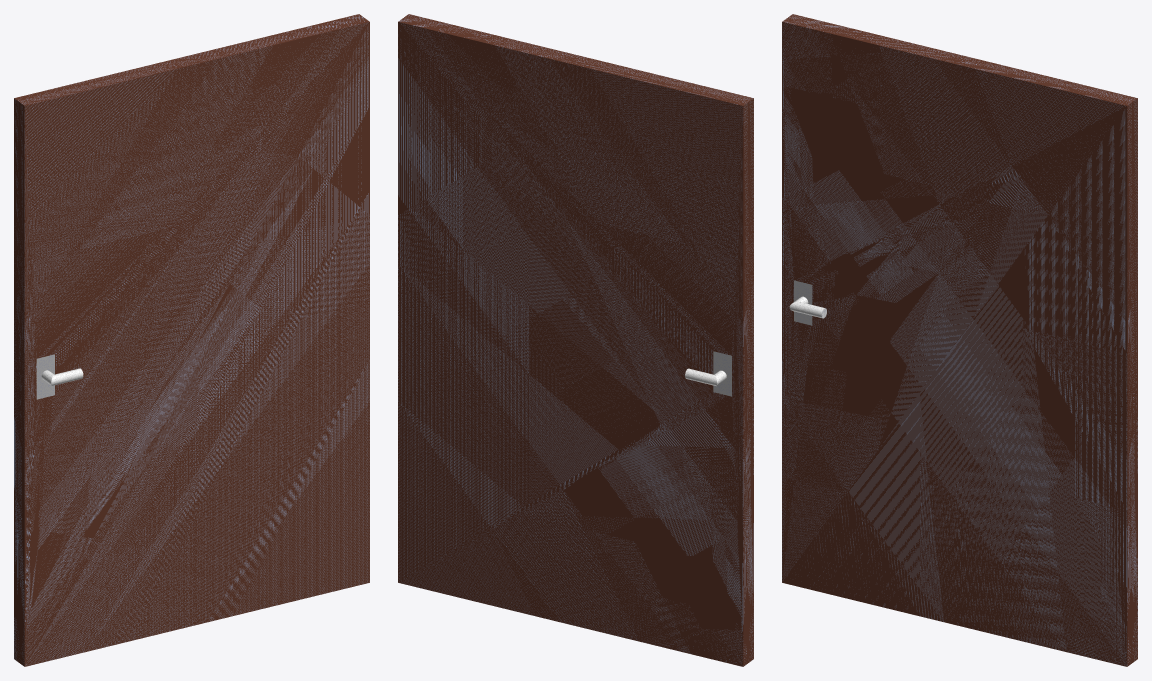
File: door.fbx
The picture shows the model from 3 angles, left to right: view 1: azimuth 30°, elevation 25°; view 2: azimuth 150°, elevation 25°; view 3: azimuth 330°, elevation 25°; orthographic projection.
Parts seen in each view (by area): view 1: Model, Basic_Doorhandle1; view 2: Model, Basic_Doorhandle2; view 3: Model, Basic_Doorhandle1.
Boxes of the visible parts, box(x1,y1,x2,y2) form: Model: box(14, 14, 369, 666); Basic_Doorhandle1: box(36, 354, 83, 399); Model: box(398, 14, 753, 666); Basic_Doorhandle2: box(685, 351, 731, 396); Model: box(782, 14, 1137, 666); Basic_Doorhandle1: box(789, 280, 826, 325).
Size of the model in its own units: 1.5 by 2.33 by 0.2238.
